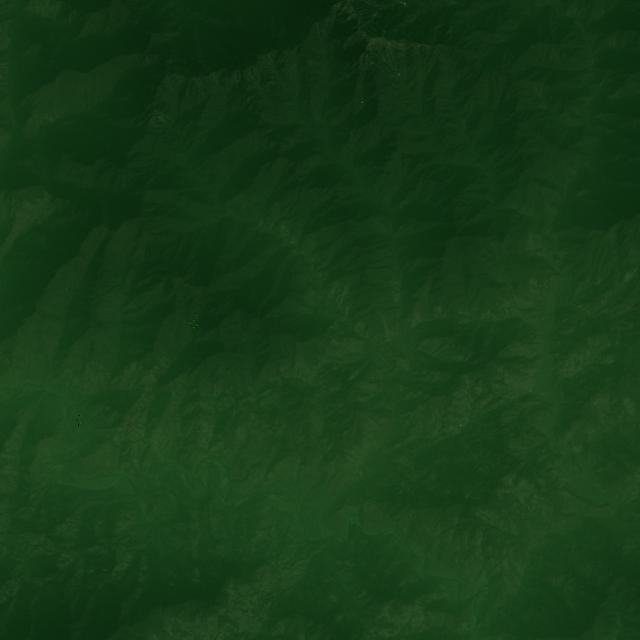landslides: (126, 79, 148, 96), (346, 0, 358, 18), (362, 0, 381, 8)
